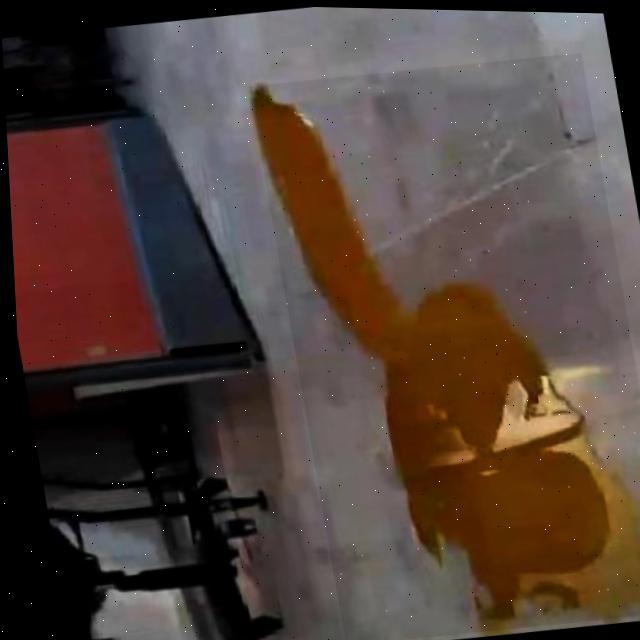spillage: (250, 83, 640, 620)
